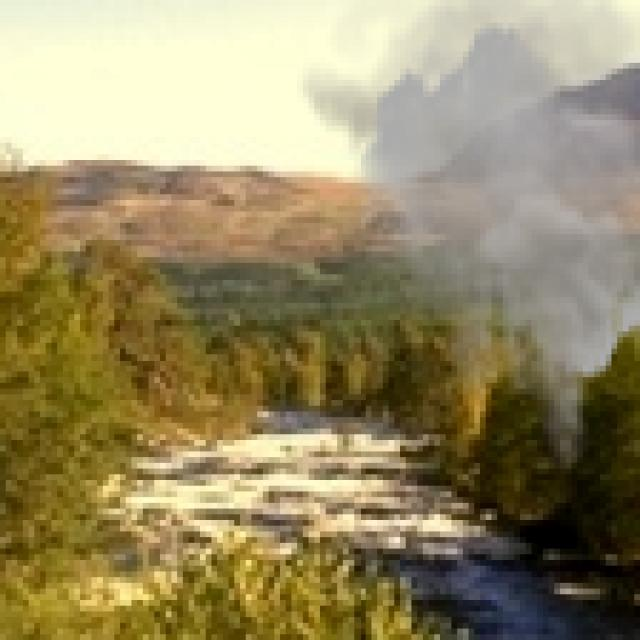smoke: (297, 0, 640, 480)
